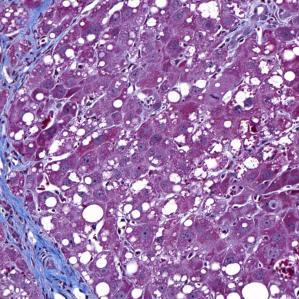fibrosis: (7, 201, 79, 290), (10, 14, 55, 87)
